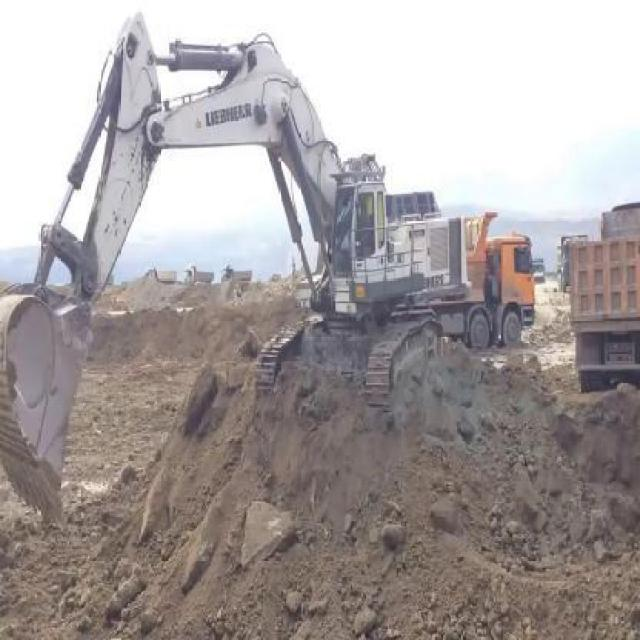Dump Truck: (566, 202, 640, 389), (471, 228, 537, 344)
Excavator: (0, 7, 471, 536)
